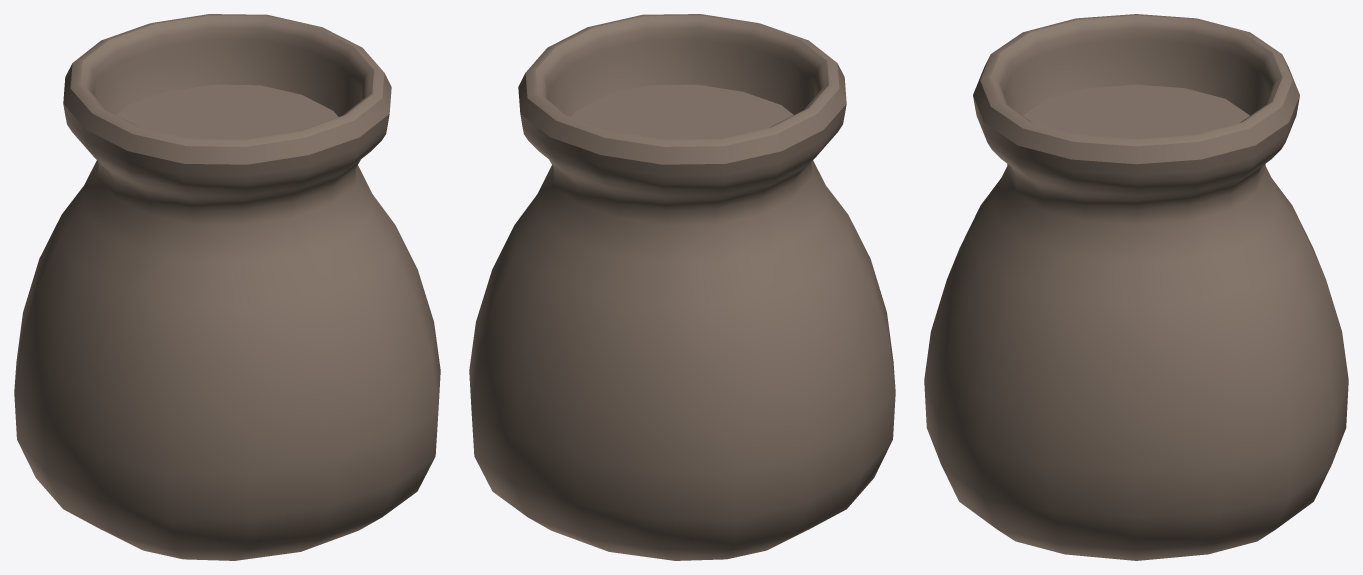
File: model_sacoaberto1_01.fbx
3 views of the same model, side by side, from view 1: azimuth 30°, elevation 25°; view 2: azimuth 150°, elevation 25°; view 3: azimuth 270°, elevation 25° (orthographic).
Visible parts, largest first — view 1: saco cheio; view 2: saco cheio; view 3: saco cheio.
Part boxes in pixels (box(x1,y1,x2,y2)): saco cheio: box(14, 14, 440, 560); saco cheio: box(469, 14, 895, 560); saco cheio: box(924, 14, 1348, 560).
Size of the model in its own units: 236 by 268 by 236.
